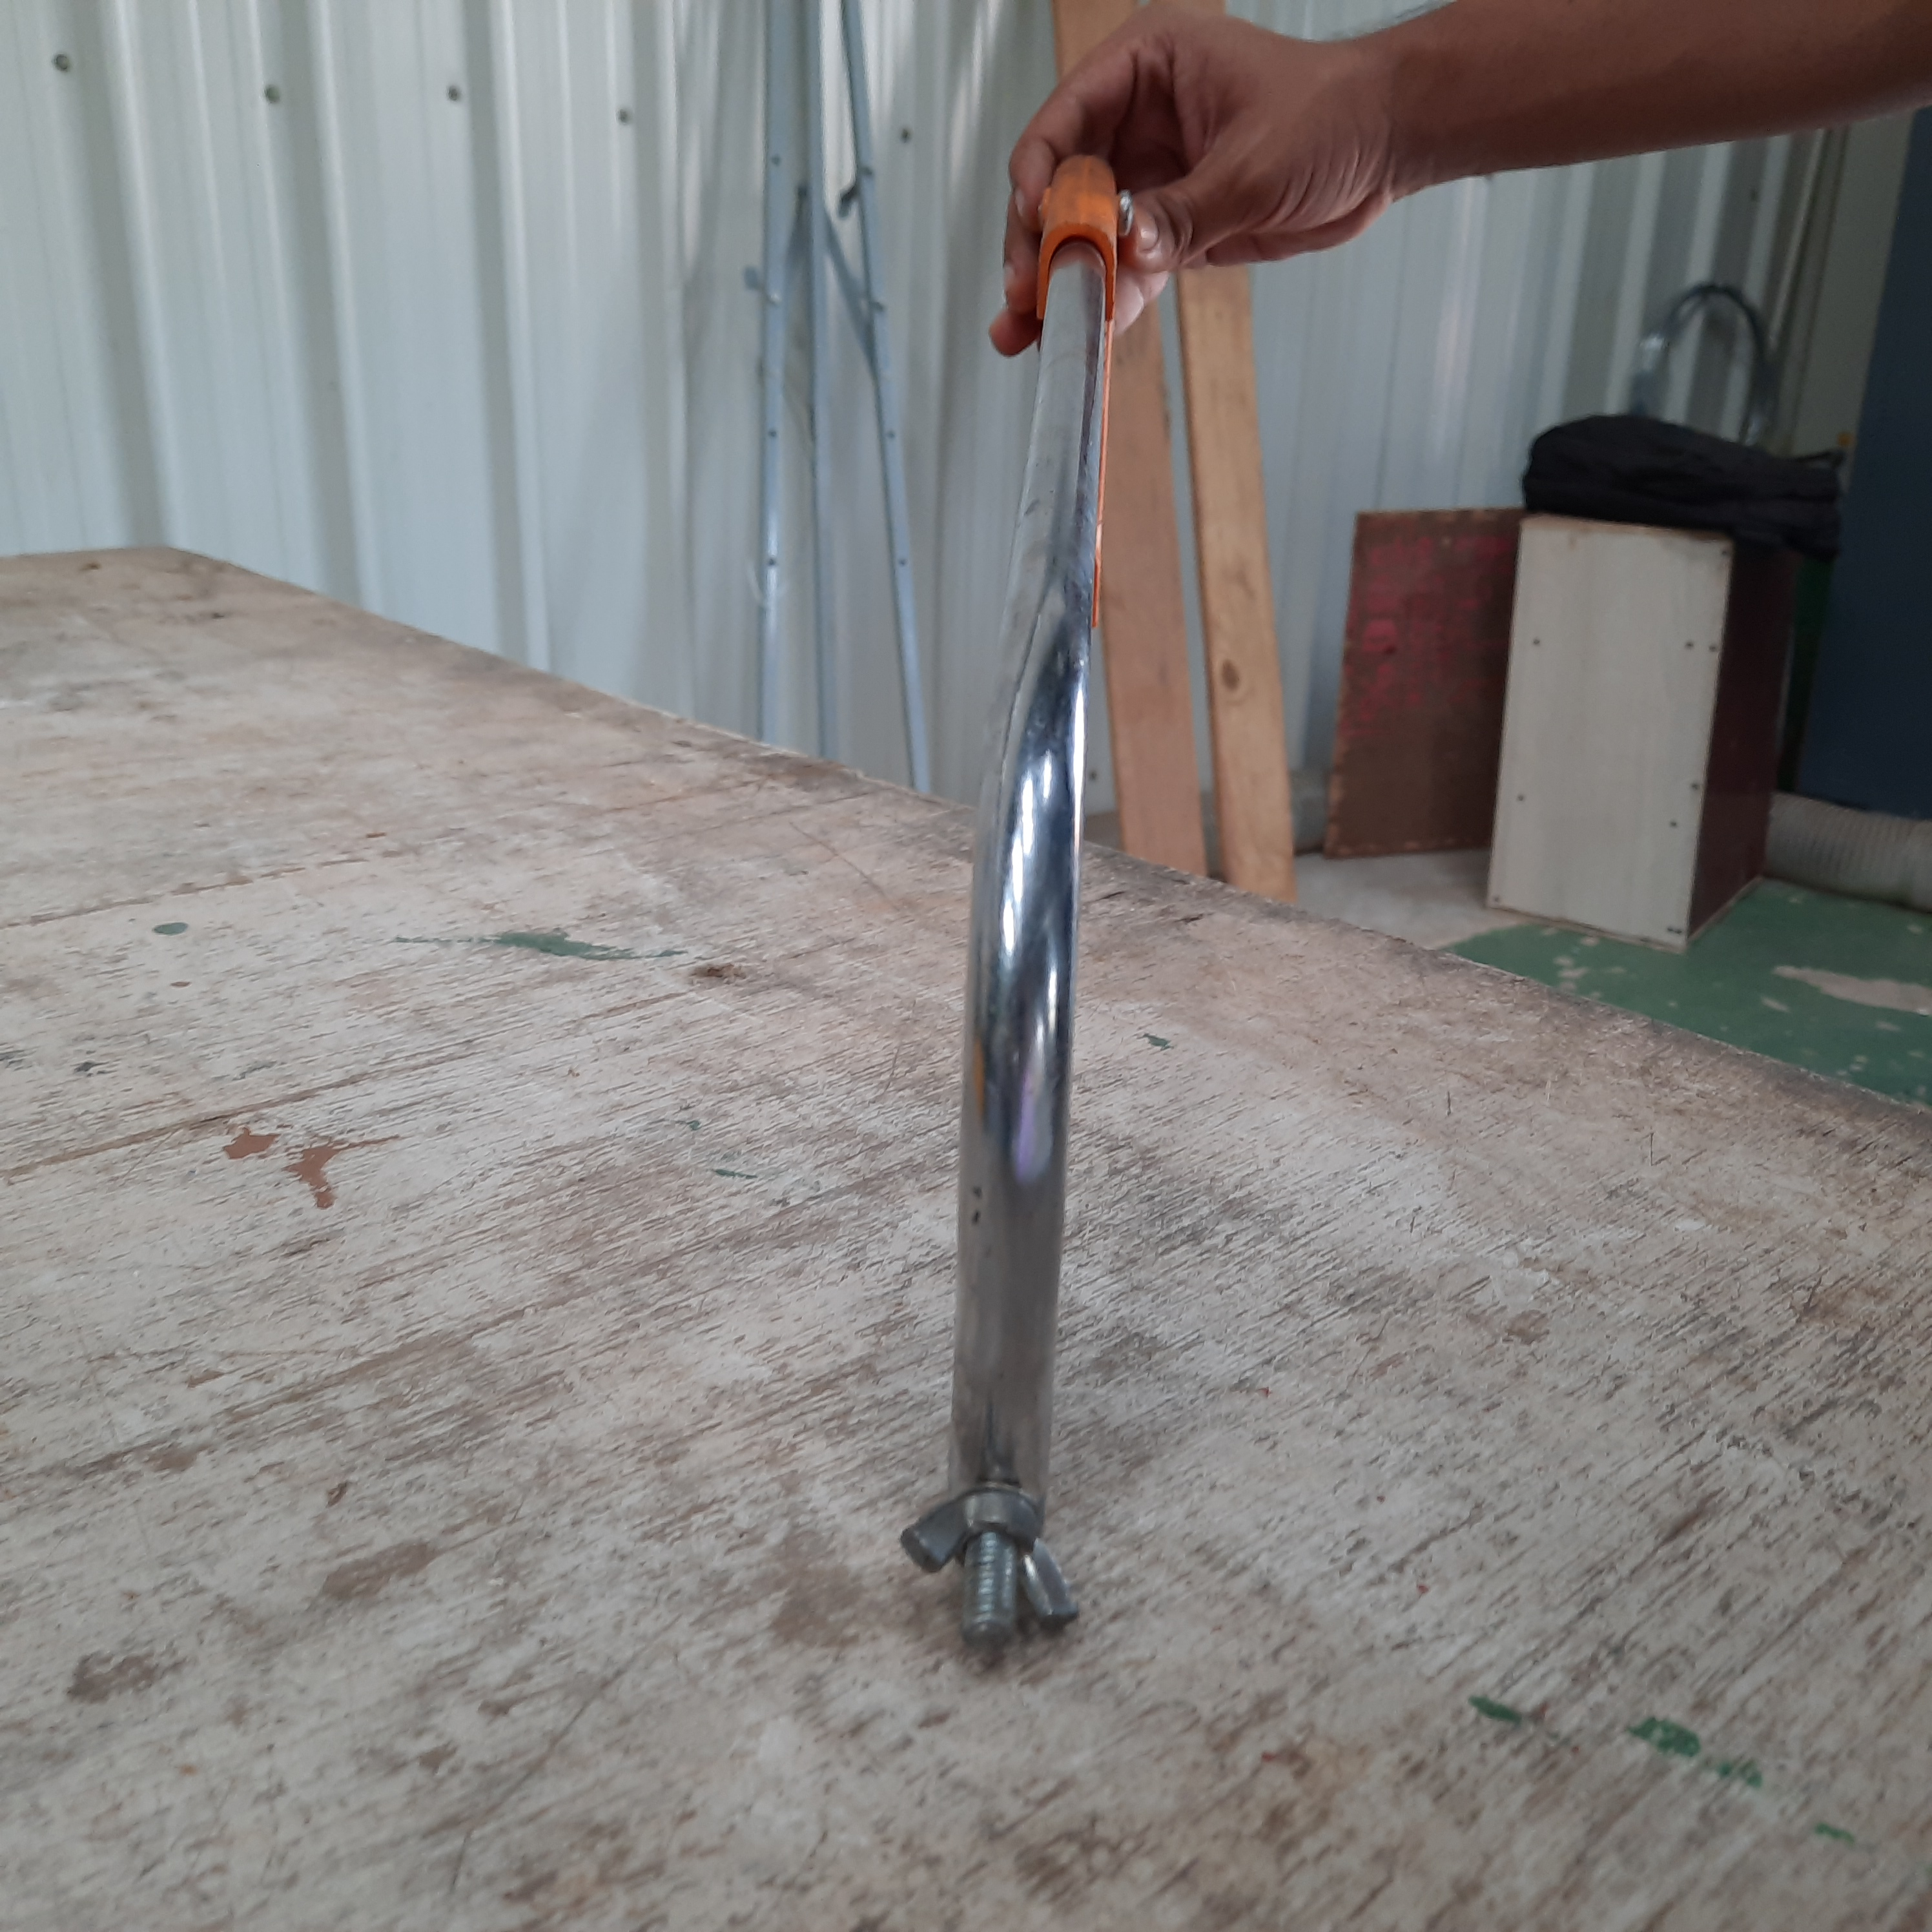Hexaframe: (844, 138, 1221, 1729)
